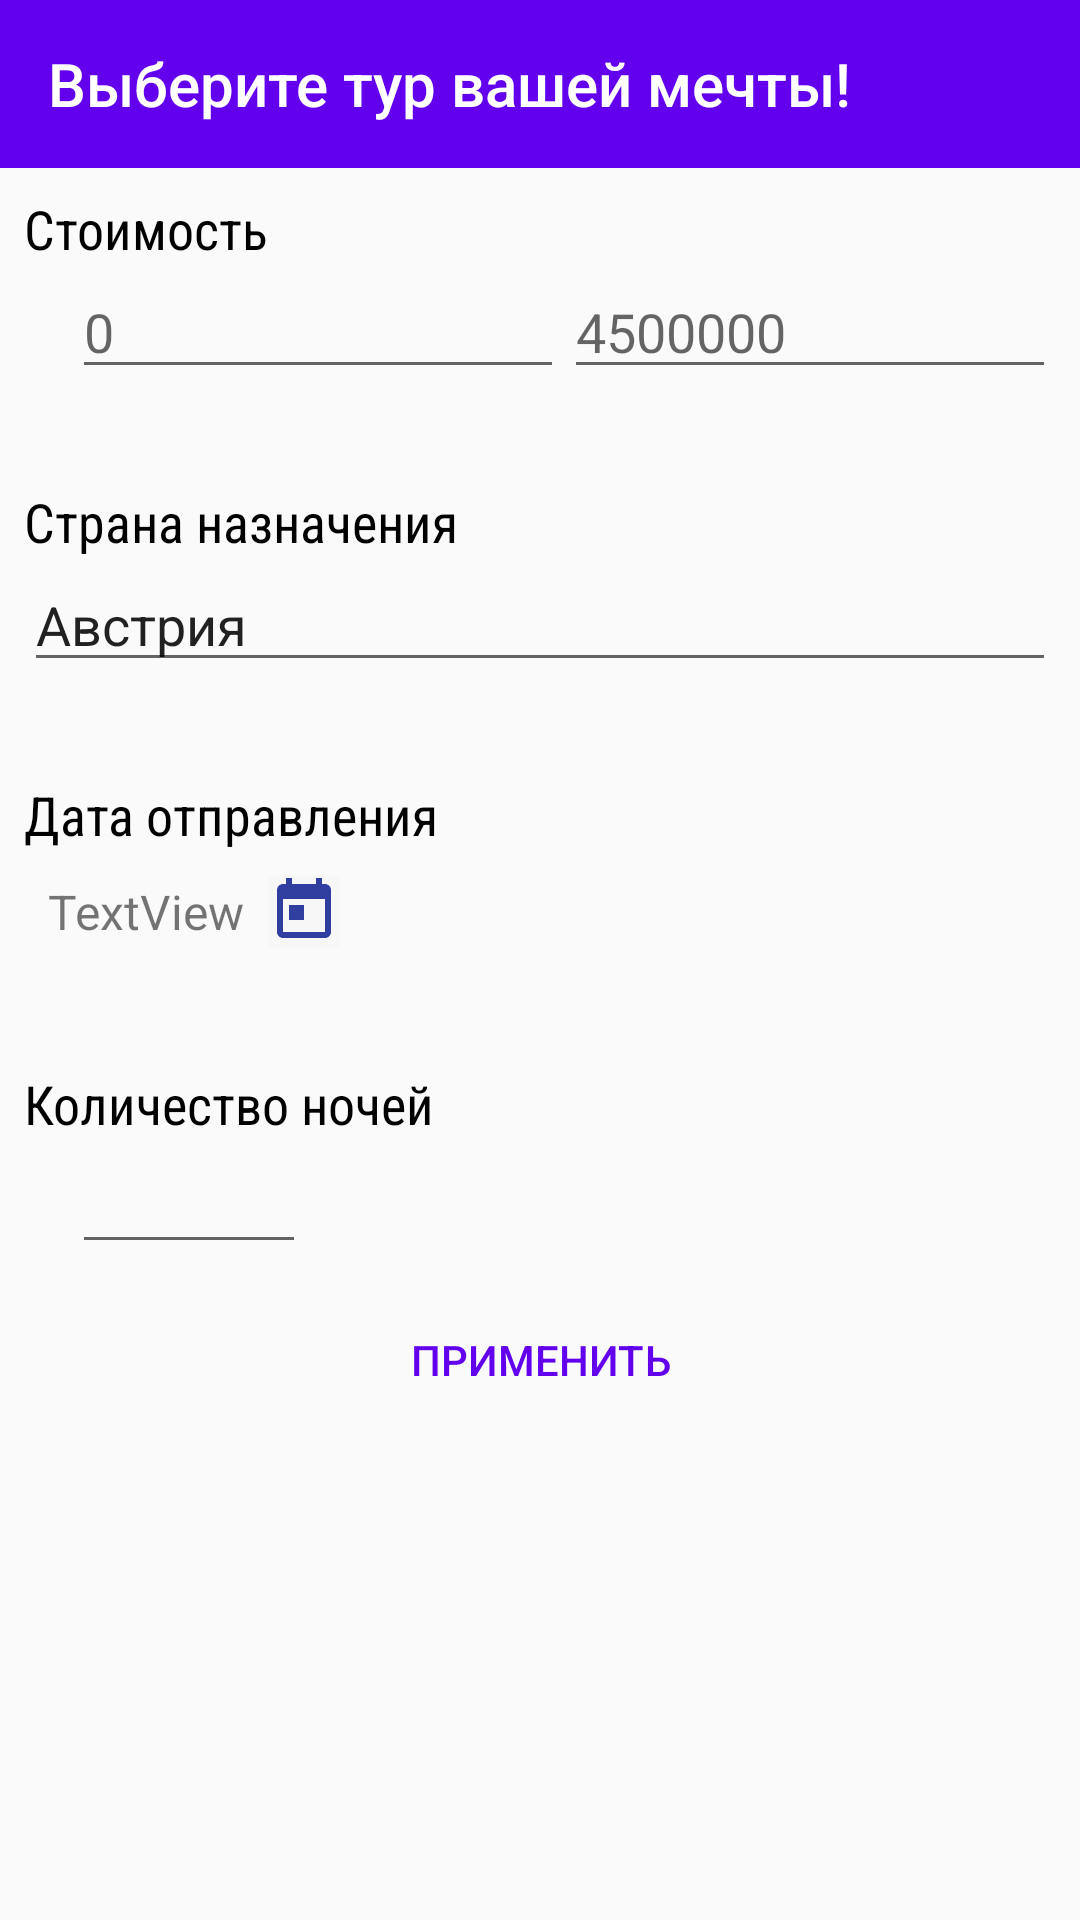

Icons on this 1080w x 1920h Android screen, each with its box as (x1, y1, x2, y2):
calendar: (277, 878, 331, 938)
